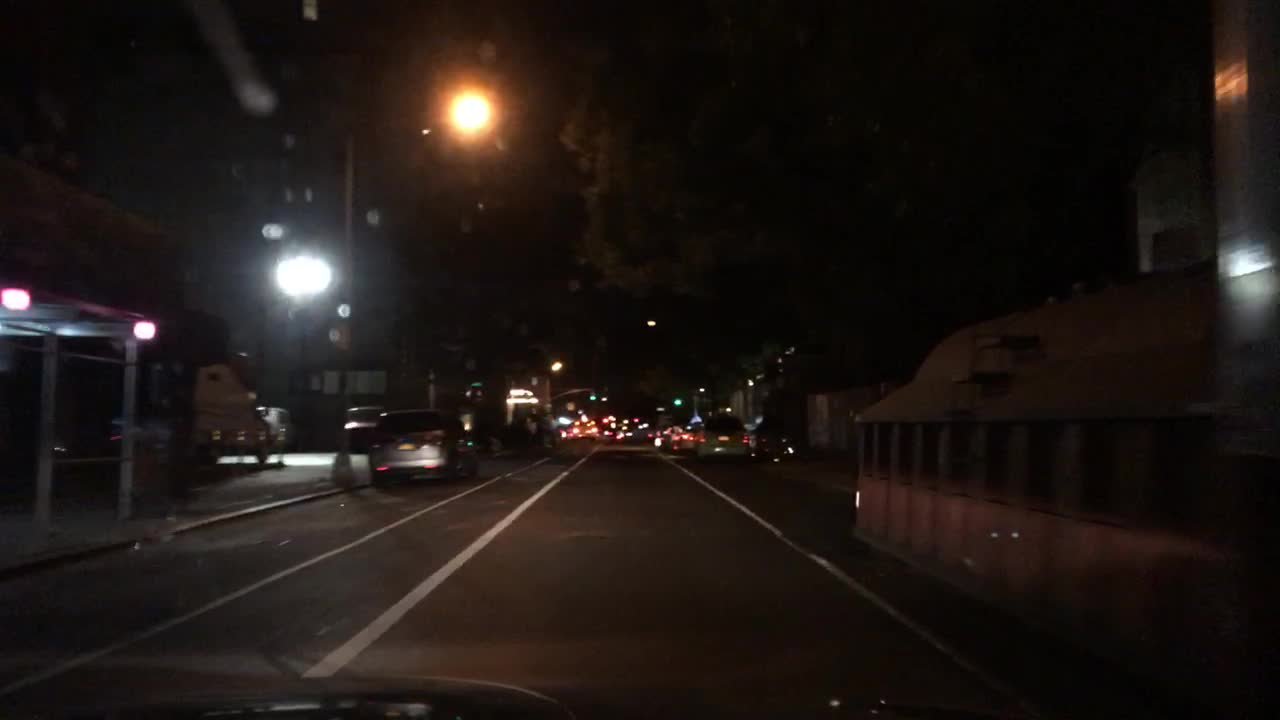car: (369, 408, 476, 481), (688, 414, 748, 461), (343, 406, 379, 450), (747, 426, 789, 462), (259, 406, 291, 447), (671, 415, 703, 452), (571, 413, 601, 442), (557, 426, 578, 441), (661, 424, 683, 436), (651, 437, 668, 450), (605, 430, 623, 442), (646, 429, 666, 439), (607, 420, 626, 429), (600, 427, 615, 436), (637, 419, 647, 431)
person: (519, 405, 540, 455), (540, 401, 552, 451)
traffic light: (671, 394, 686, 406), (586, 390, 597, 403)
traffic sign: (563, 399, 575, 411)
